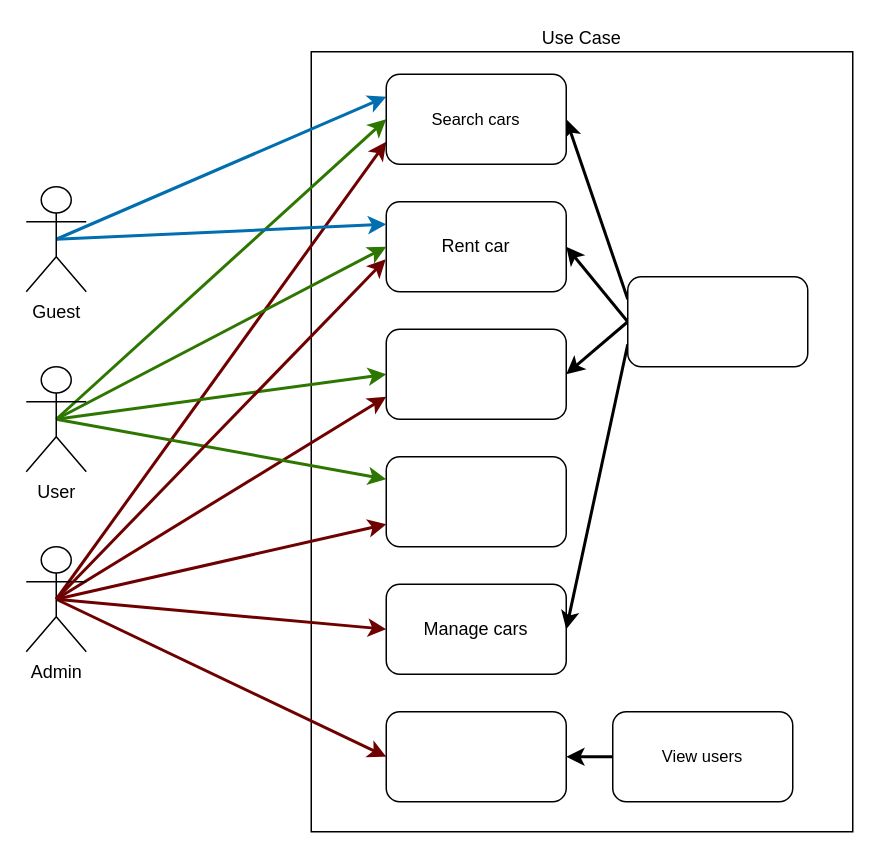
This 879x858 diagram has some shape labels left out. Here are the shapes that lost their labels. From the top down, the box of each, then its label:
(626, 275, 808, 367): View cars
(385, 328, 566, 419): Favourite car
(385, 455, 566, 547): Log in
(385, 710, 566, 802): Manage users
